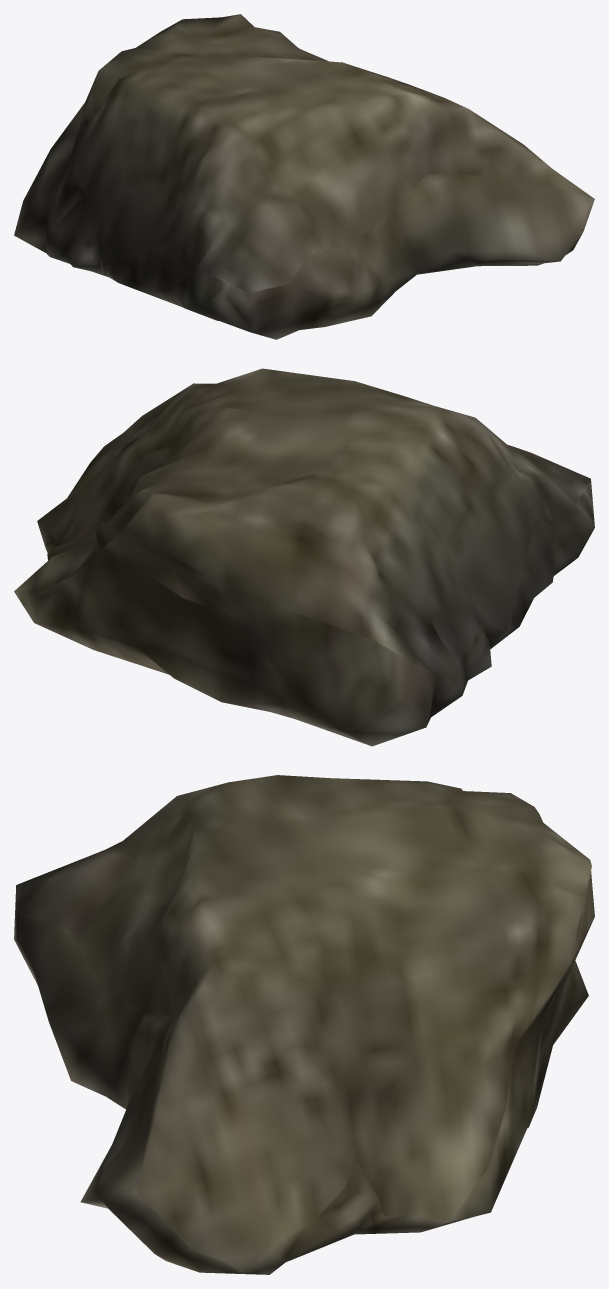
3 views of the same model, one above another, from view 1: azimuth 30°, elevation 25°; view 2: azimuth 150°, elevation 25°; view 3: azimuth 270°, elevation 25° (orthographic). The views are drawn at different scales.
Visible parts, largest first — view 1: rock_moss_set_02__b_lod2; view 2: rock_moss_set_02__b_lod2; view 3: rock_moss_set_02__b_lod2.
Part boxes in pixels (left/top/right/bottom): rock_moss_set_02__b_lod2: left=14, top=14, right=594, bottom=339; rock_moss_set_02__b_lod2: left=14, top=368, right=594, bottom=746; rock_moss_set_02__b_lod2: left=14, top=775, right=594, bottom=1274.
Size of the model in its own units: 1.2 by 0.5122 by 0.9747.
1 material, 1 textured.
